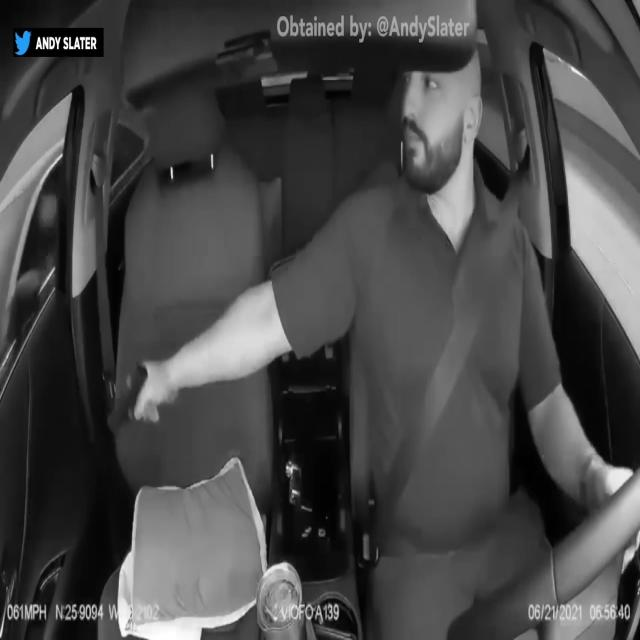senjata_api: (107, 360, 148, 440)
